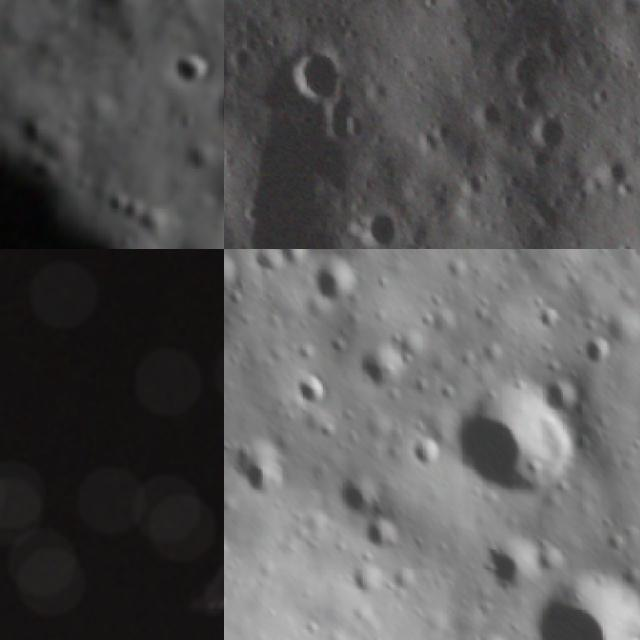crater: (455, 376, 590, 495), (536, 568, 640, 640), (280, 44, 348, 114), (307, 92, 373, 154), (518, 104, 581, 163), (359, 346, 426, 390), (239, 438, 284, 495), (312, 260, 364, 306), (484, 542, 535, 586), (166, 50, 217, 90), (360, 206, 403, 249), (296, 375, 332, 418), (578, 332, 613, 372), (363, 516, 402, 549), (528, 300, 566, 330), (412, 433, 436, 467), (411, 0, 447, 21), (224, 249, 237, 285)
